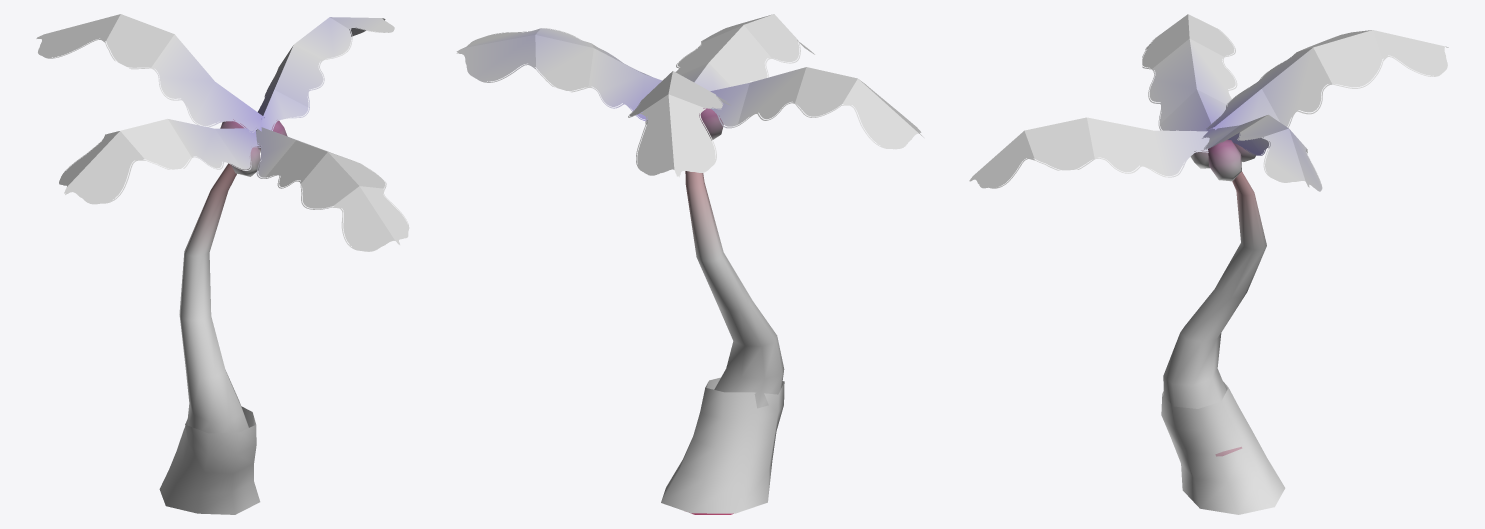
The model's file is PalmTree2.fbx.
The picture shows the model from 3 angles, left to right: view 1: azimuth 30°, elevation 25°; view 2: azimuth 150°, elevation 25°; view 3: azimuth 270°, elevation 25°; orthographic projection. The views are drawn at different scales.
Visible parts, largest first — view 1: PalmLeaves2, Cube.021, Cube.024; view 2: PalmLeaves2, Cube.024, Cube.021; view 3: PalmLeaves2, Cube.024, Cube.021, Coconut.003.
Boxes of the visible parts, bbox=[...] form: PalmLeaves2: bbox=[36, 14, 409, 251]; Cube.021: bbox=[179, 163, 248, 433]; Cube.024: bbox=[159, 406, 260, 514]; PalmLeaves2: bbox=[456, 14, 923, 177]; Cube.024: bbox=[661, 377, 784, 513]; Cube.021: bbox=[685, 171, 784, 514]; PalmLeaves2: bbox=[969, 14, 1448, 191]; Cube.024: bbox=[1161, 381, 1285, 514]; Cube.021: bbox=[1163, 171, 1266, 456]; Coconut.003: bbox=[1208, 139, 1241, 181].
Bounding box in the file's own units: 1092 × 1140 × 1154.
